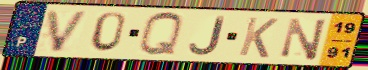0: (87, 11, 128, 54)
J: (188, 15, 227, 57)
K: (236, 15, 281, 60)
N: (279, 16, 330, 62)
Q: (137, 10, 186, 58)
V: (45, 9, 92, 54)
